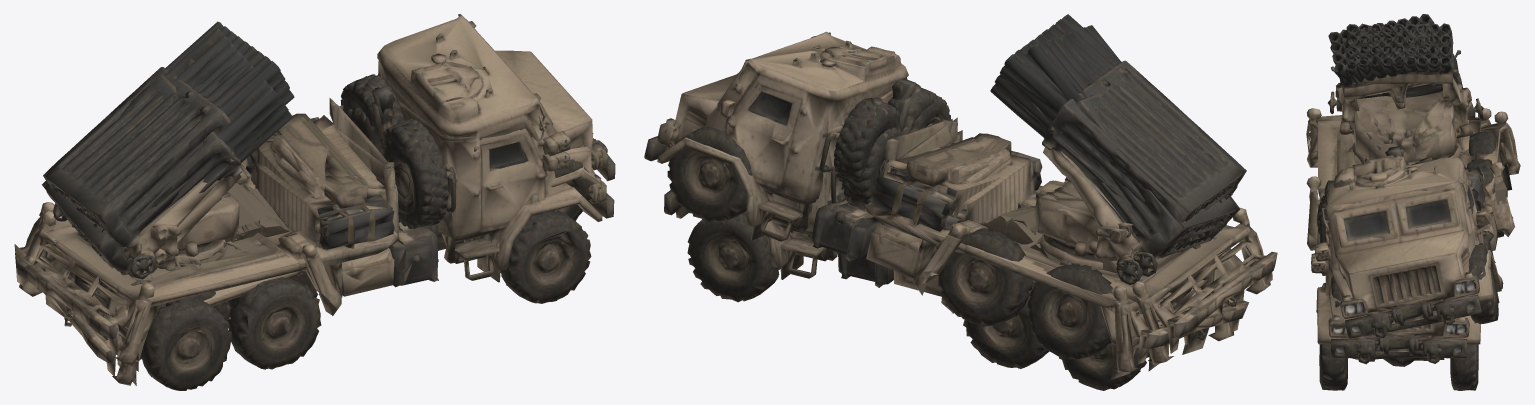
Rendered from rocket_battery.glb.
3 renders of one model, left to right at view 1: azimuth 30°, elevation 25°; view 2: azimuth 150°, elevation 25°; view 3: azimuth 270°, elevation 25°, orthographic. The views are drawn at different scales.
Parts seen in each view (by area): view 1: hull_plate, hull_metal, WRECK_hull_hull, hull_hull, hull_rubber, WRECK_hull_metal, WRECK_hull_plate, WRECK_hull_rubber; view 2: WRECK_hull_hull, hull_metal, WRECK_hull_plate, WRECK_hull_rubber, hull_plate, WRECK_hull_metal, hull_rubber, hull_hull; view 3: WRECK_hull_hull, hull_metal, WRECK_hull_metal, hull_hull, hull_plate, WRECK_hull_plate, WRECK_hull_rubber, hull_rubber.
Part boxes in pixels (box(x1,y1,x2,y2)): hull_plate: box(15, 128, 406, 371); hull_metal: box(39, 21, 319, 300); WRECK_hull_hull: box(340, 14, 615, 261); hull_hull: box(346, 100, 614, 285); hull_rubber: box(84, 210, 591, 390); WRECK_hull_metal: box(39, 27, 299, 307); WRECK_hull_plate: box(14, 98, 401, 385); WRECK_hull_rubber: box(159, 159, 590, 321); WRECK_hull_hull: box(644, 31, 939, 255); hull_metal: box(990, 14, 1249, 298); WRECK_hull_plate: box(846, 118, 1248, 380); WRECK_hull_rubber: box(667, 127, 1124, 359); hull_plate: box(874, 117, 1277, 371); WRECK_hull_metal: box(947, 25, 1239, 303); hull_rubber: box(687, 211, 1149, 390); hull_hull: box(664, 90, 950, 281); WRECK_hull_hull: box(1315, 146, 1503, 338); hull_metal: box(1306, 23, 1491, 192); WRECK_hull_metal: box(1328, 14, 1508, 179); hull_hull: box(1311, 163, 1480, 364); hull_plate: box(1306, 115, 1490, 250); WRECK_hull_plate: box(1407, 122, 1520, 262); WRECK_hull_rubber: box(1331, 131, 1507, 323); hull_rubber: box(1319, 273, 1478, 390).
Size of the model in its own units: 5.79 by 3.08 by 2.32.
Materials: 1 (1 with a texture image).
